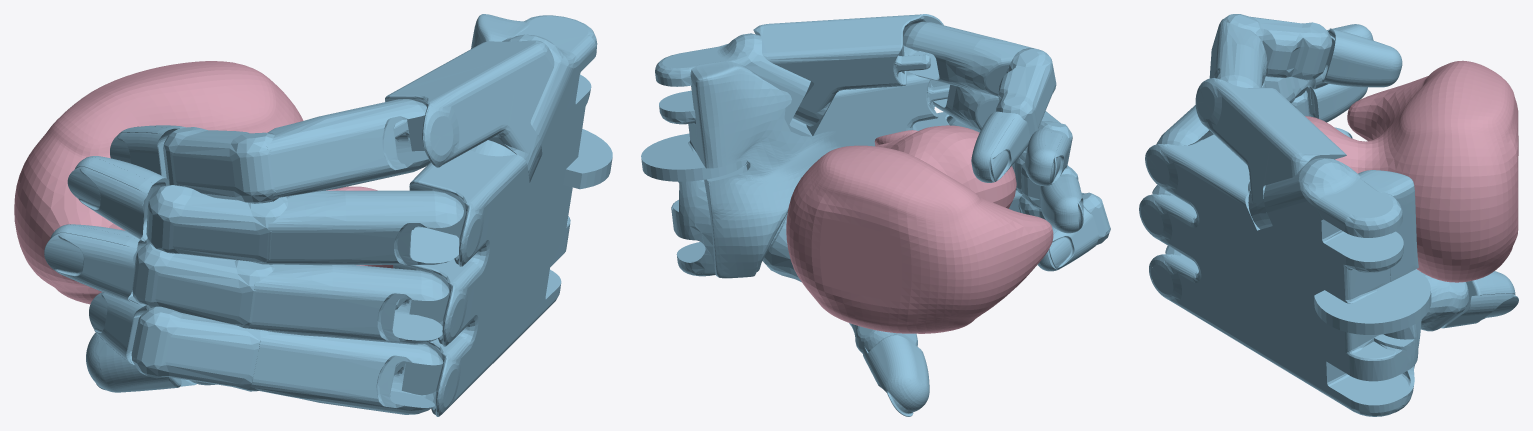
3 views of the same model, side by side, from view 1: azimuth 30°, elevation 25°; view 2: azimuth 150°, elevation 25°; view 3: azimuth 270°, elevation 25° (orthographic). The views are drawn at different scales.
Visible parts, largest first — view 1: world; view 2: world; view 3: world.
Boxes of the visible parts, x1=… form: world: x1=14, y1=14, x2=612, y2=416; world: x1=641, y1=14, x2=1110, y2=416; world: x1=1139, y1=14, x2=1518, y2=416.
Bounding box in the file's own units: 0.1767 × 0.1101 × 0.1265.
